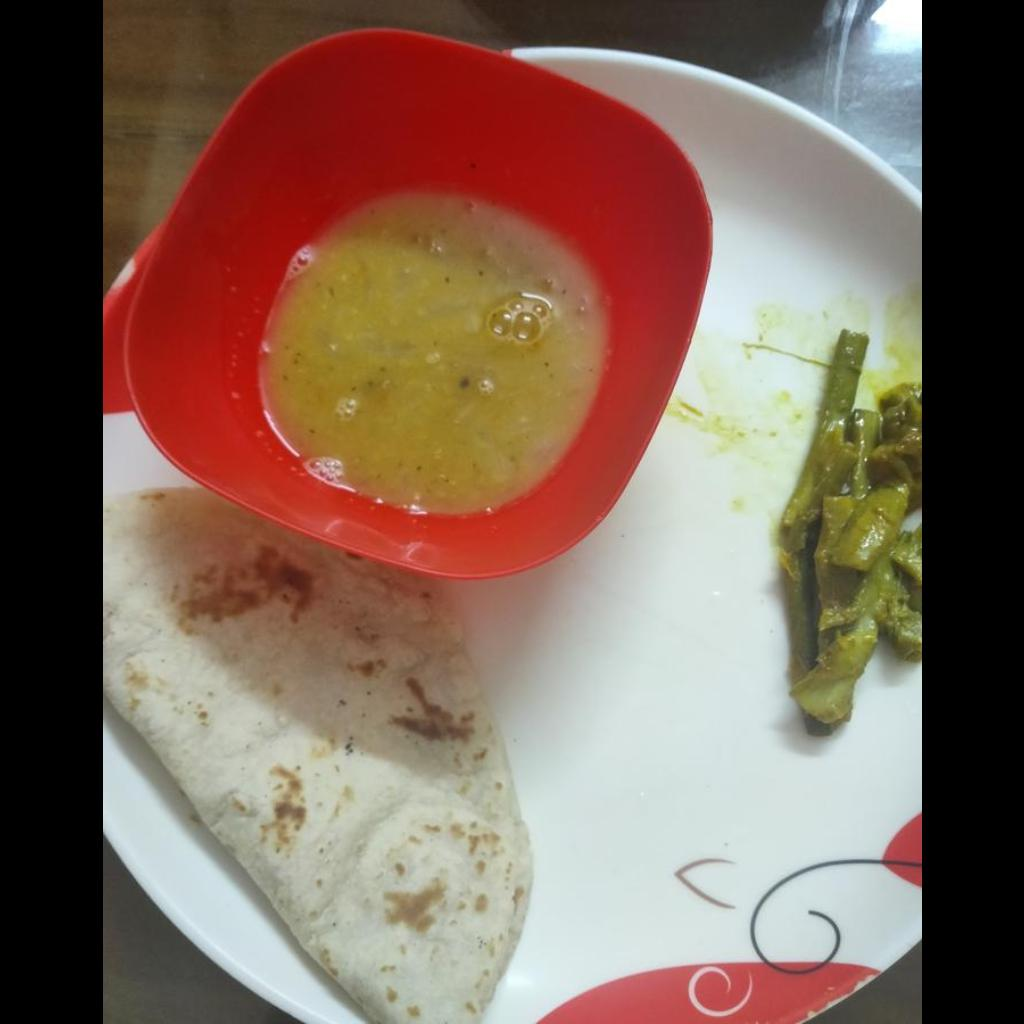daal: (261, 194, 613, 508)
ruti: (103, 488, 526, 1022)
vaji: (777, 329, 920, 733)
